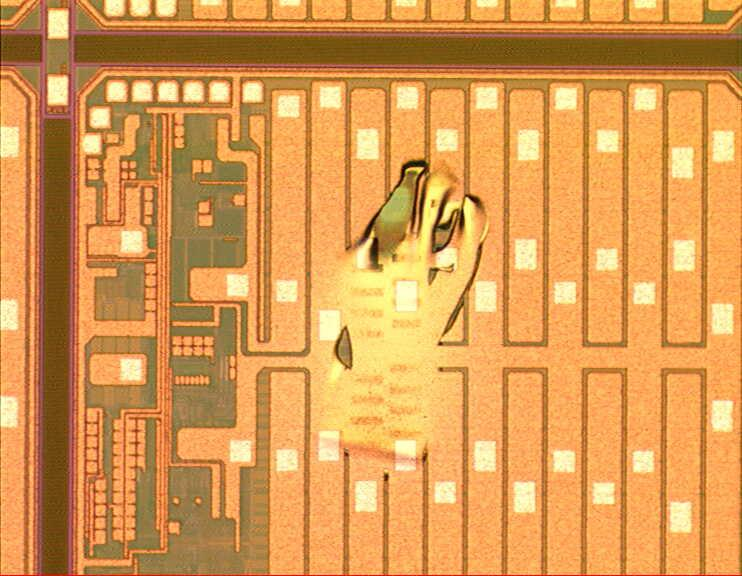BLOCK ETCH: (316, 156, 494, 470)
